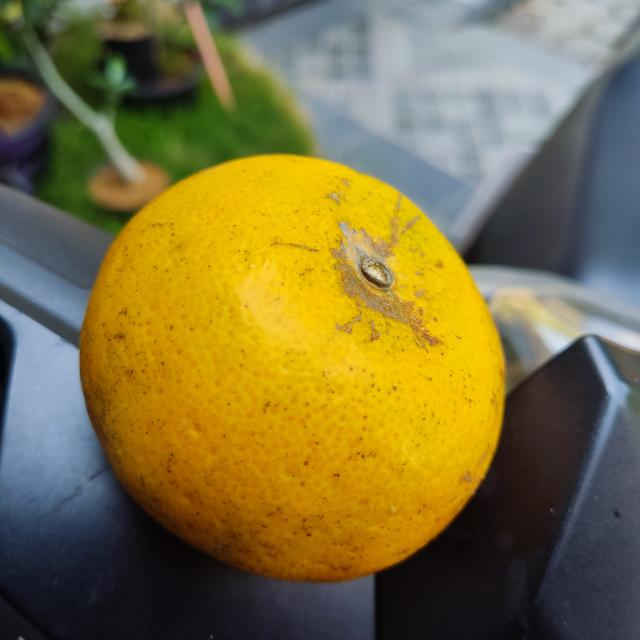orange: (79, 154, 507, 586)
